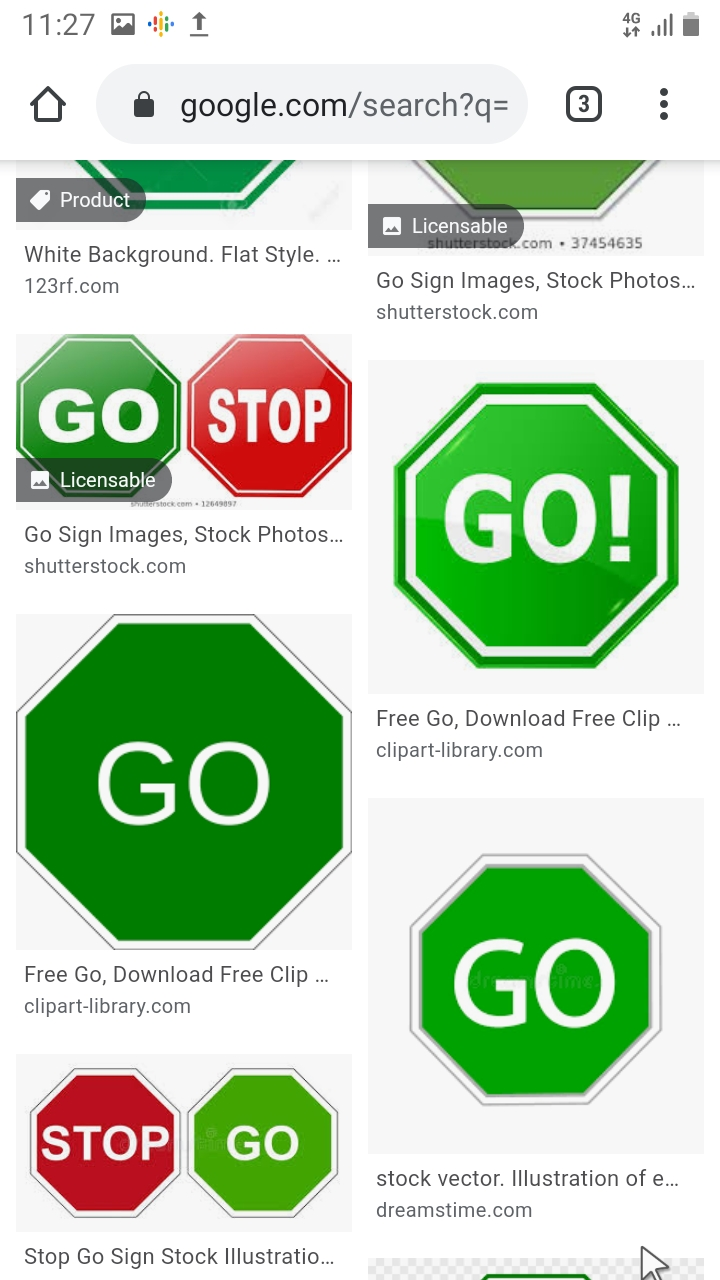go: (17, 604, 351, 943), (394, 366, 720, 691), (398, 851, 672, 1117), (184, 1076, 347, 1221), (10, 327, 176, 459)
stop: (190, 315, 355, 496), (15, 1061, 178, 1225)
